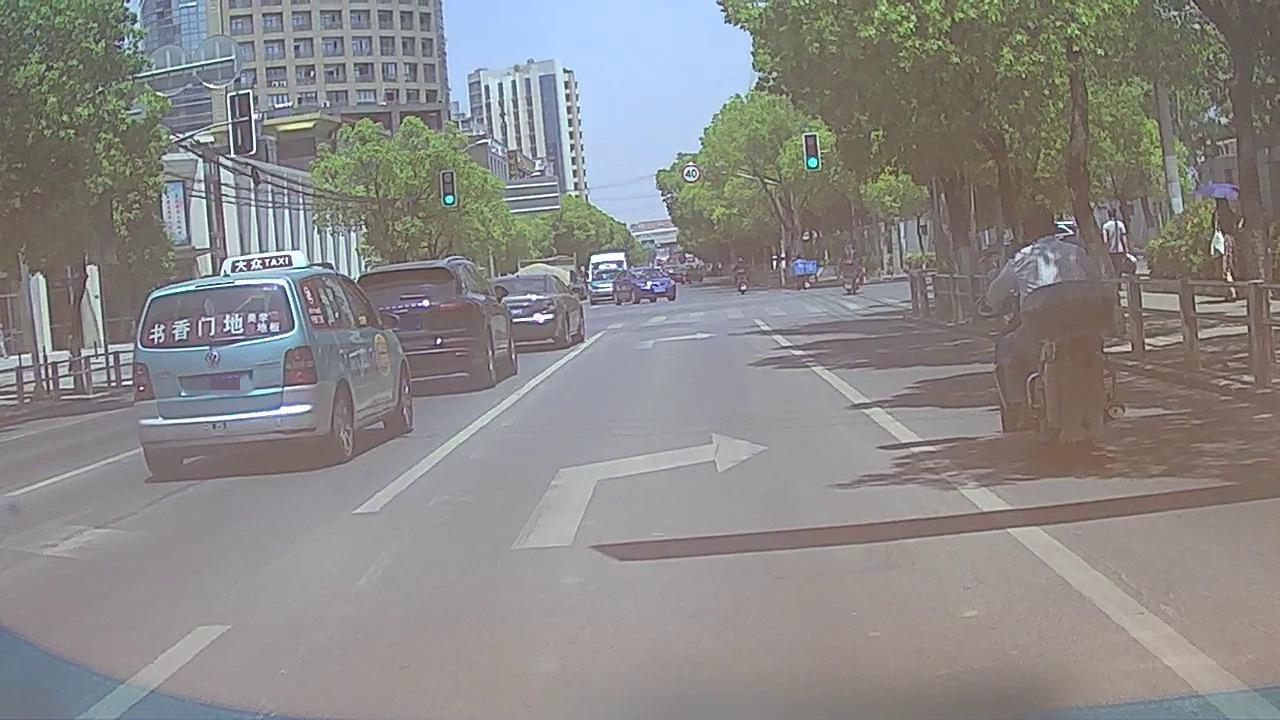traffic_light: (804, 134, 820, 171), (441, 171, 455, 205)
